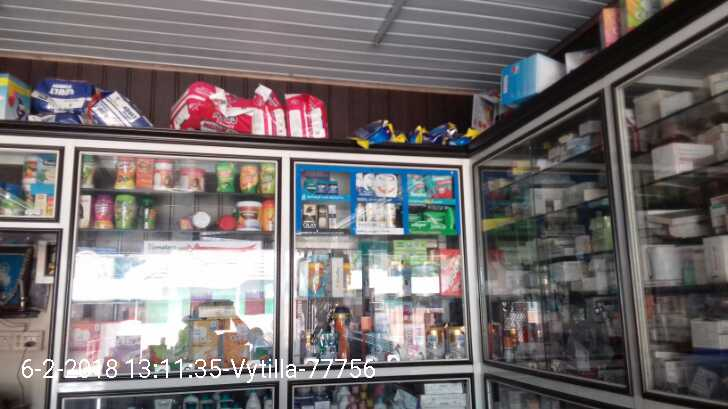vicks: (306, 181, 338, 194)
